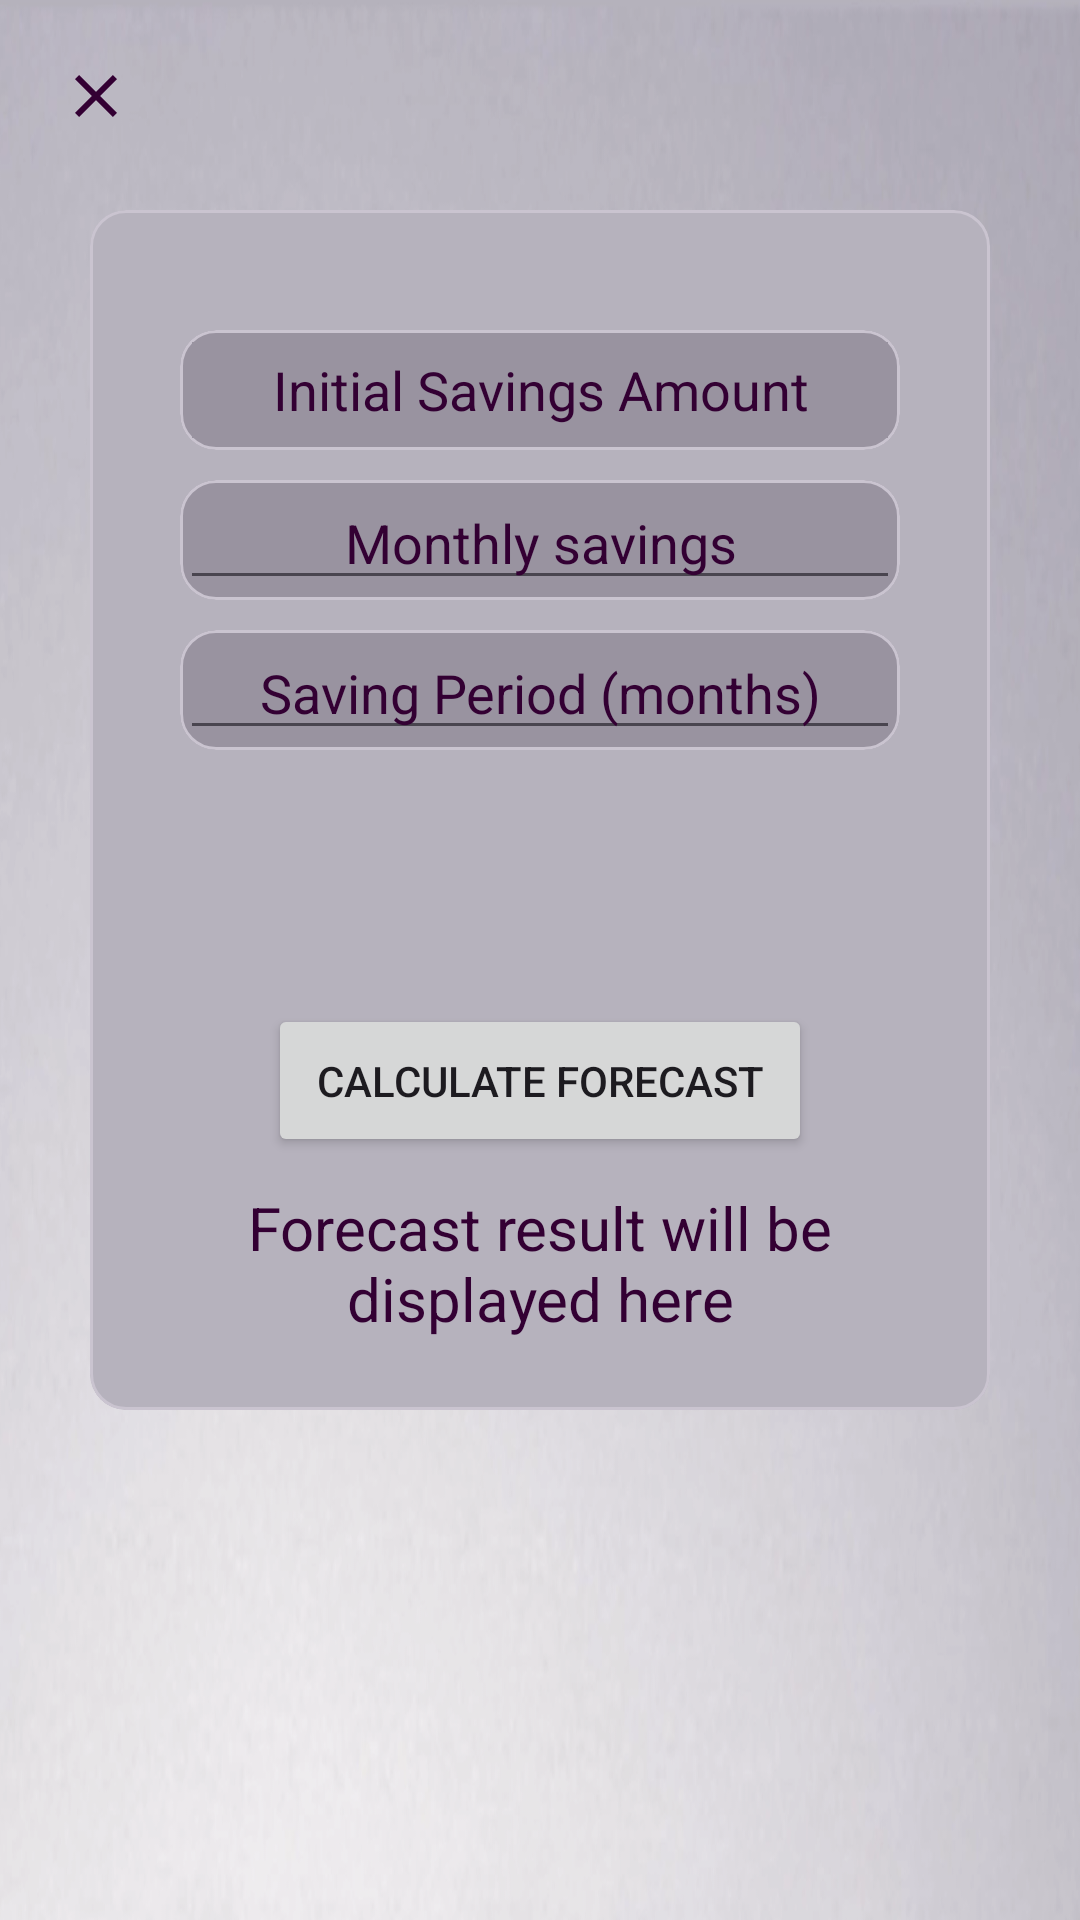

Where icons sit on this 1080×1920 app screen, as (x1, y1, x2, y2):
Closing arrow back to main menu: (75, 75, 117, 117)
